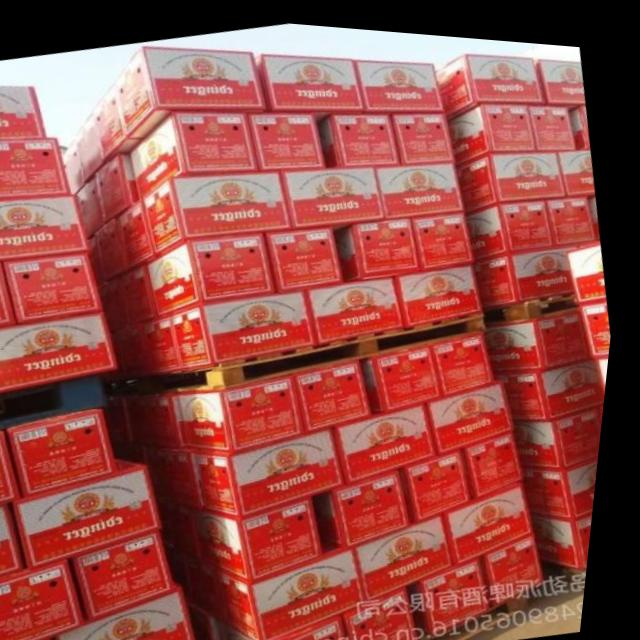box: (114, 43, 267, 136), (255, 49, 368, 119), (436, 46, 547, 113), (354, 53, 445, 105), (538, 50, 586, 104)
